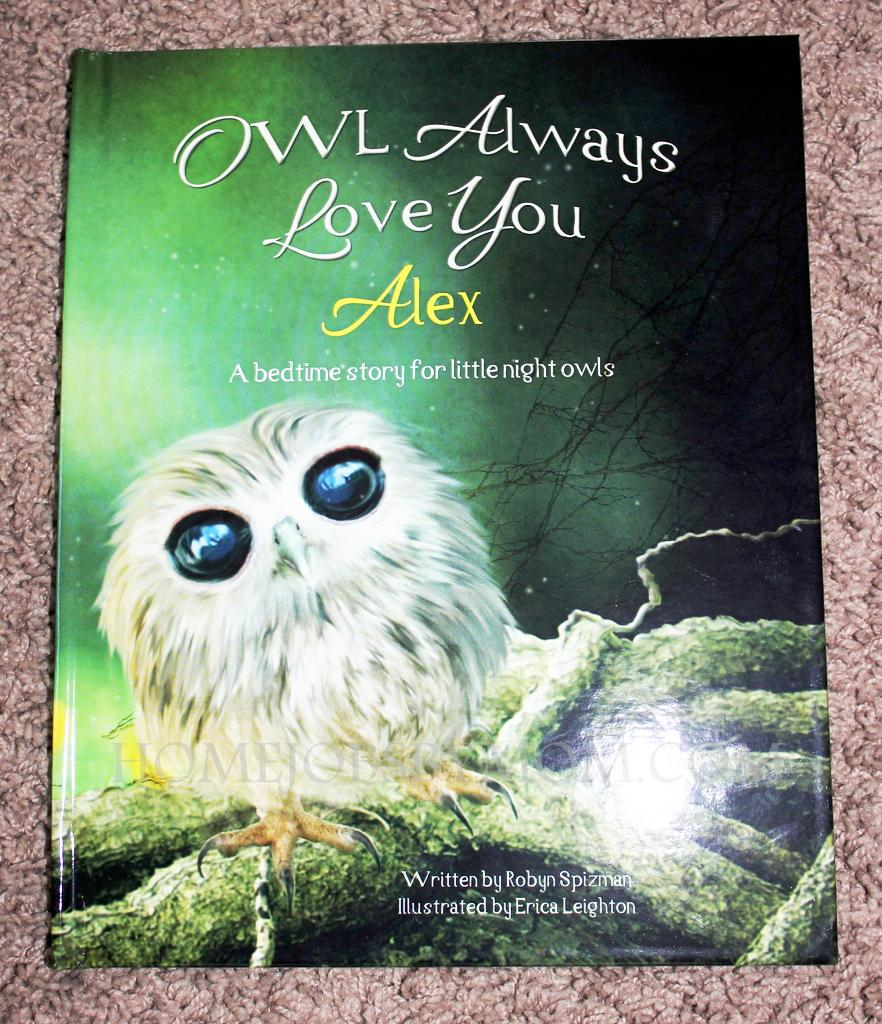Owl: (87, 394, 521, 895)
